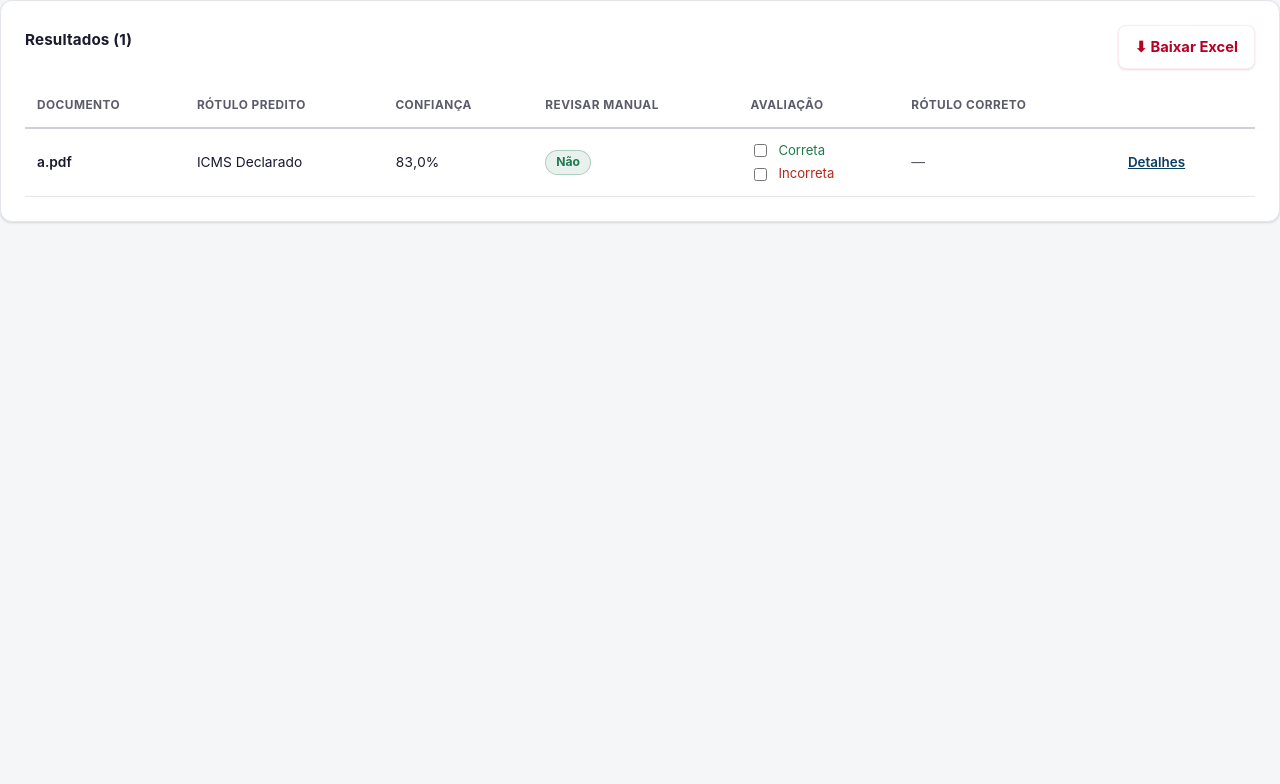
Test case: ResultsTable › expands a row to show the detail (probabilities + explanation)
Step 1. Click the button with test id "toggle-details" → (1157, 162), box [1119,150,1194,176]
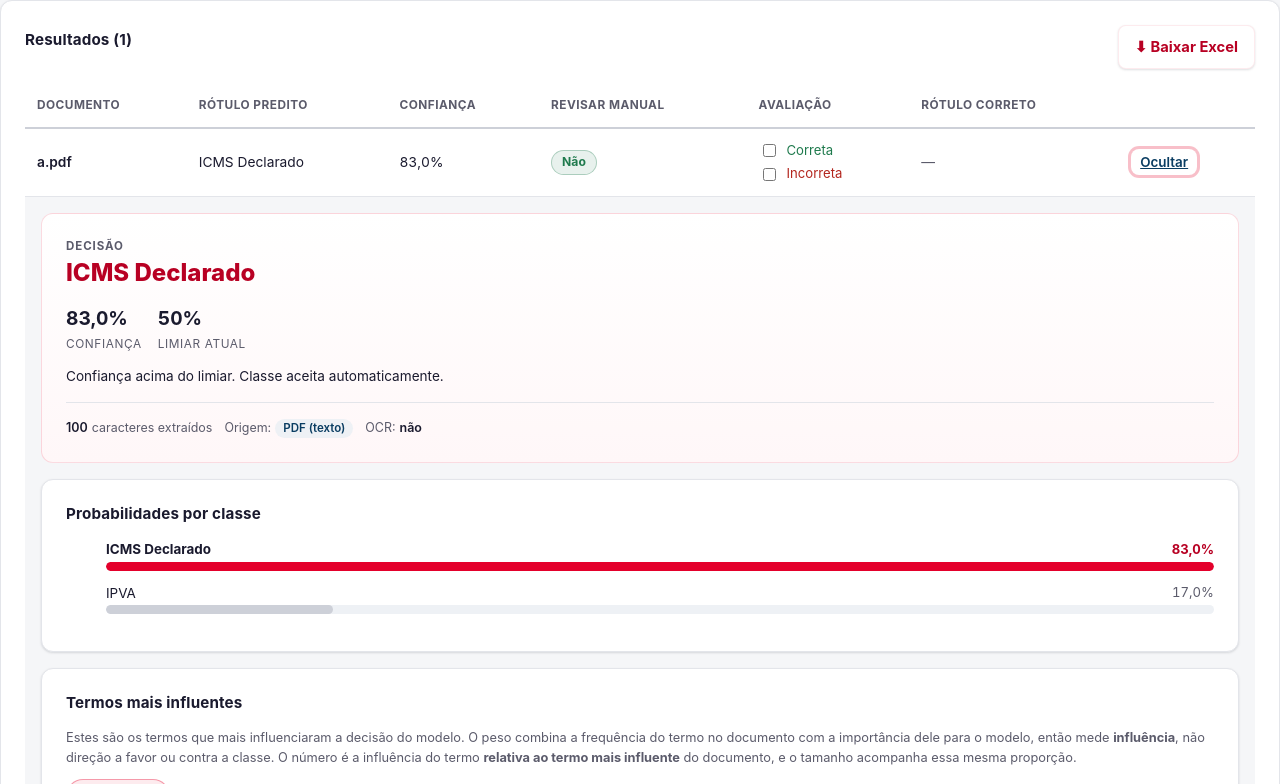
expect the element with test id "result-card" is shown: met, box [41,213,1239,463]
